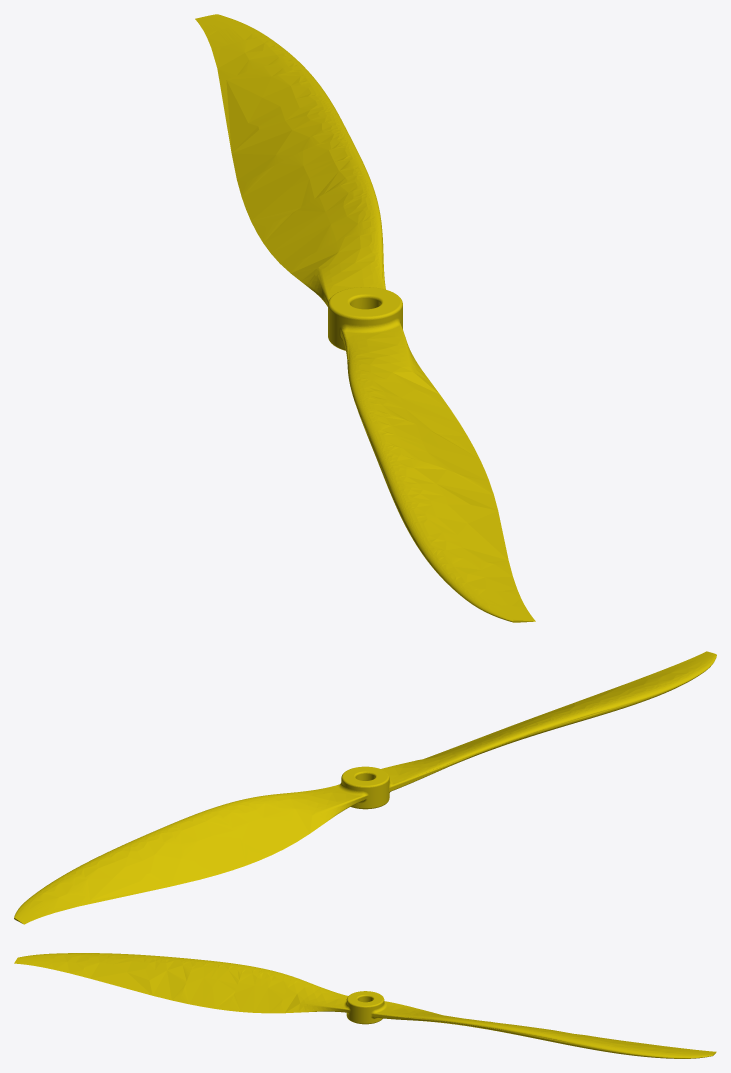
The model's file is prop_fl.dae.
3 renders of one model, top to bottom at view 1: azimuth 30°, elevation 25°; view 2: azimuth 150°, elevation 25°; view 3: azimuth 270°, elevation 25°, orthographic. The views are drawn at different scales.
Parts seen in each view (by area): view 1: tmp_export_Part__Feature.006; view 2: tmp_export_Part__Feature.006; view 3: tmp_export_Part__Feature.006.
Part boxes in pixels (<box>): tmp_export_Part__Feature.006: <box>195,14,535,622</box>; tmp_export_Part__Feature.006: <box>14,651,716,924</box>; tmp_export_Part__Feature.006: <box>14,953,716,1058</box>.
Size of the model in its own units: 0.0855 by 0.2438 by 0.00876.
